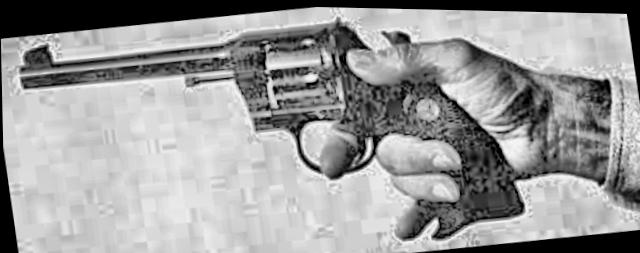pistol: (11, 0, 529, 253)
